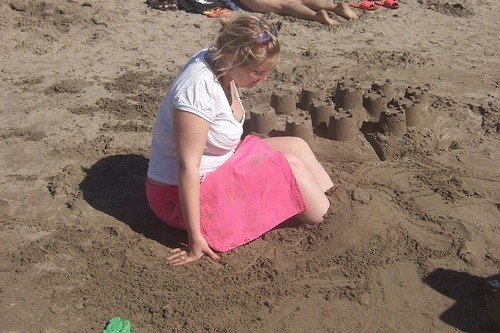head: (207, 14, 284, 92)
person: (148, 19, 332, 269), (231, 1, 364, 26)
